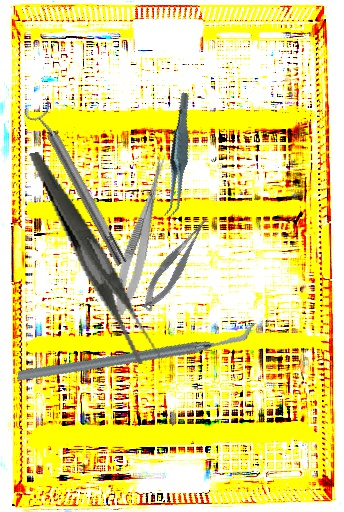Chopper: (16, 270, 256, 435)
Dressing Forceps: (29, 136, 161, 378)
Fixation Ring: (22, 96, 134, 272)
Micro Scissor: (108, 151, 172, 318), (132, 213, 221, 315)
Tissue Forceps: (141, 91, 216, 220)
